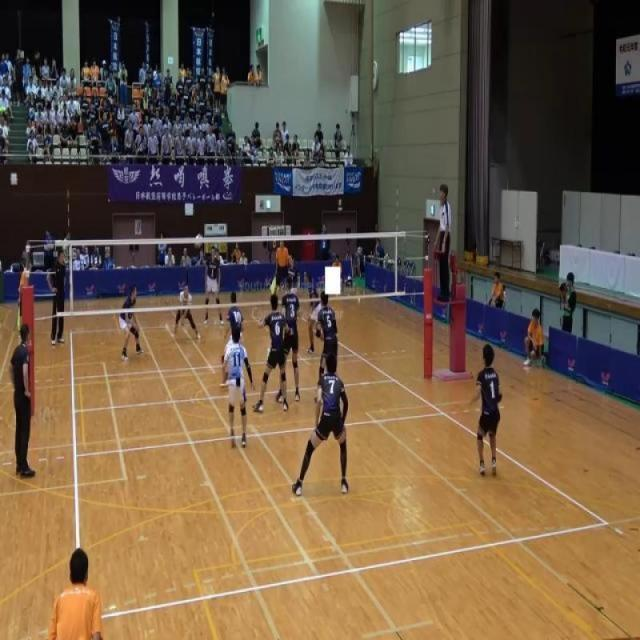volleyball: (193, 233, 203, 249)
